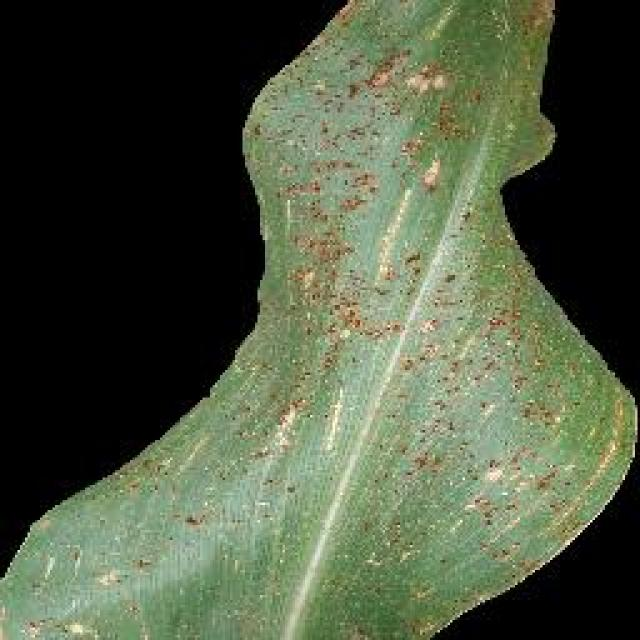Corn Common Rust: (255, 37, 505, 373)
